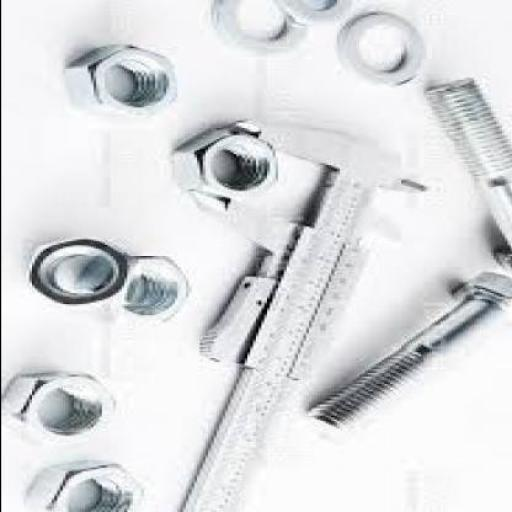metal: (182, 119, 442, 510), (308, 268, 510, 427), (428, 76, 511, 272), (165, 126, 277, 212), (64, 42, 185, 112), (25, 236, 140, 302), (8, 371, 114, 436), (342, 9, 425, 86), (25, 460, 146, 510), (109, 252, 190, 322), (213, 0, 305, 54), (274, 0, 355, 26)
